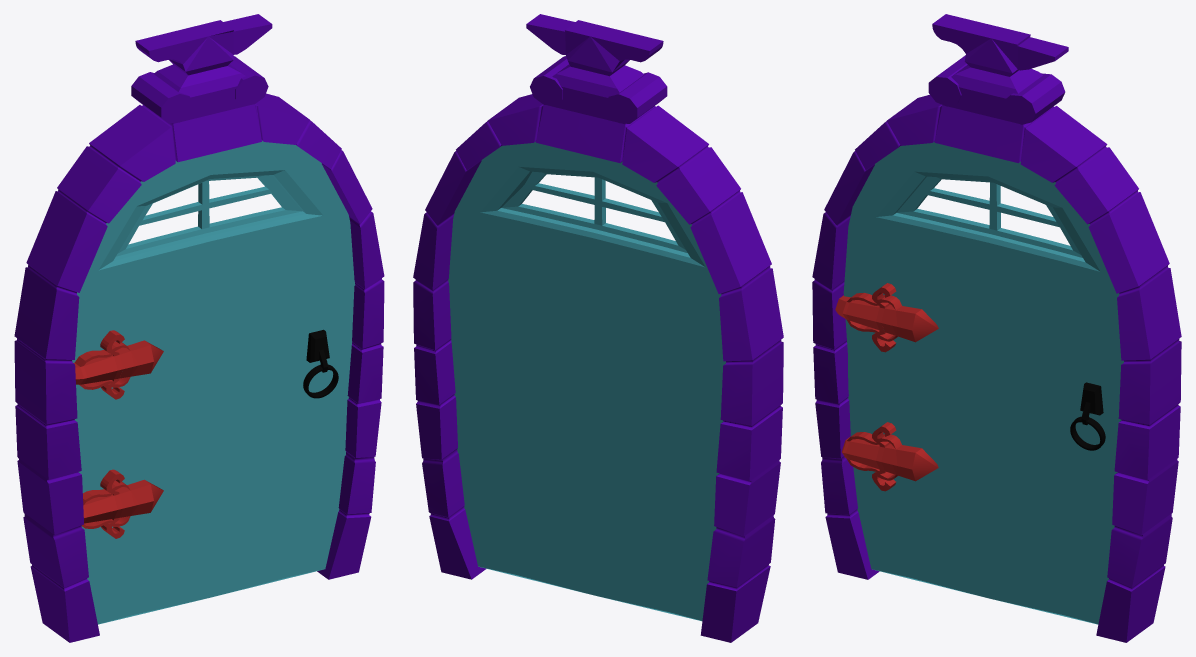
Rendered from DoorWithLambertsApplied.fbx.
The picture shows the model from 3 angles, left to right: view 1: azimuth 30°, elevation 25°; view 2: azimuth 150°, elevation 25°; view 3: azimuth 330°, elevation 25°; orthographic projection.
Visible parts, largest first — view 1: door6, pCylinder8, hinge3, pCube16, pSphere11; view 2: door6, pCylinder8; view 3: door6, pCylinder8, hinge3, pCube16, pSphere11.
Part boxes in pixels (left/top/right/bottom): door6: left=72, top=140, right=355, bottom=624; pCylinder8: left=14, top=14, right=384, bottom=642; hinge3: left=73, top=330, right=163, bottom=538; pCube16: left=306, top=329, right=329, bottom=362; pSphere11: left=303, top=364, right=338, bottom=398; door6: left=448, top=141, right=725, bottom=621; pCylinder8: left=413, top=14, right=783, bottom=642; door6: left=843, top=141, right=1123, bottom=624; pCylinder8: left=812, top=14, right=1181, bottom=642; hinge3: left=835, top=283, right=938, bottom=491; pCube16: left=1080, top=382, right=1103, bottom=415; pSphere11: left=1070, top=416, right=1105, bottom=450.
Bounding box in the file's own units: 13.09 × 20.88 × 2.75.
